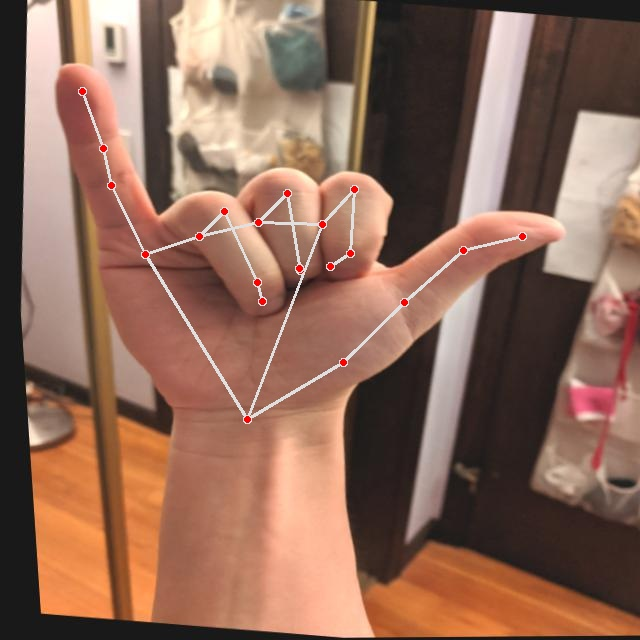Y: (19, 53, 592, 445)
